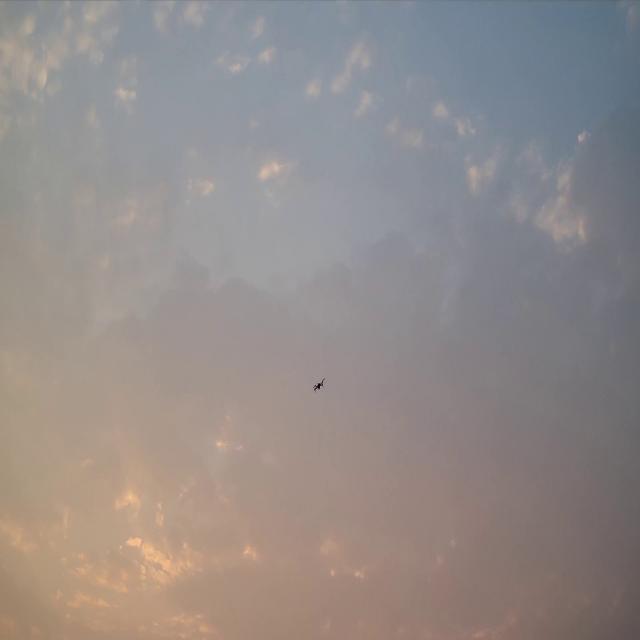UAV: (312, 377, 326, 393)
